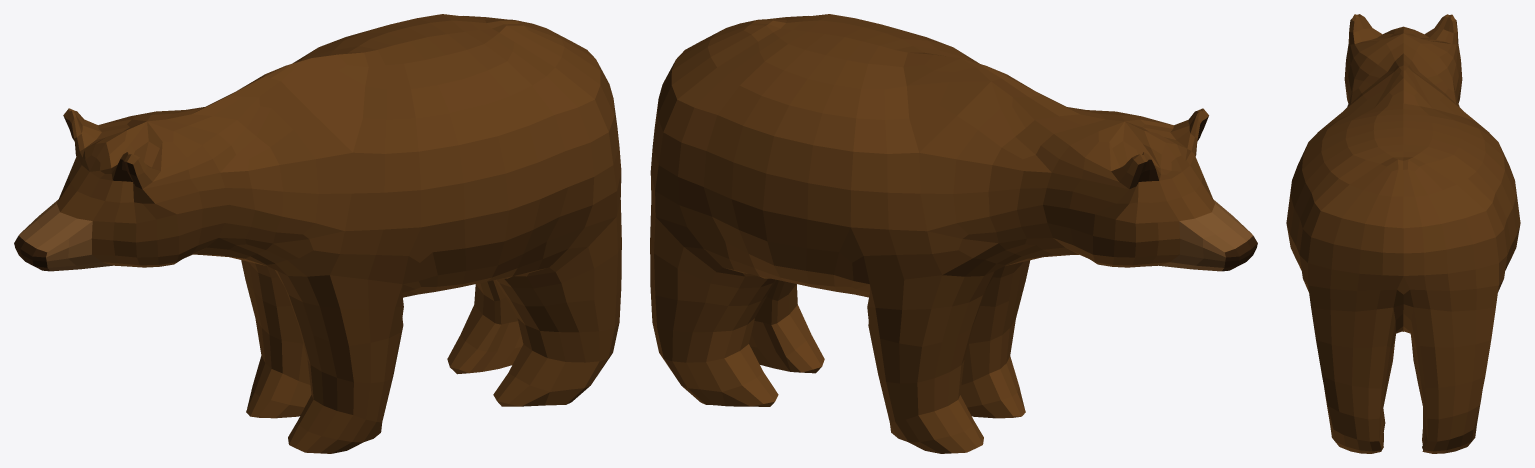
The model's file is Bear.FBX.
3 views of the same model, side by side, from view 1: azimuth 30°, elevation 25°; view 2: azimuth 150°, elevation 25°; view 3: azimuth 270°, elevation 25° (orthographic). The views are drawn at different scales.
Parts seen in each view (by area): view 1: Sphere001; view 2: Sphere001; view 3: Sphere001.
Part boxes in pixels (x1,y1,x2,y2): Sphere001: (14, 14, 621, 453); Sphere001: (650, 14, 1257, 453); Sphere001: (1286, 14, 1520, 453).
Size of the model in its own units: 5.25 by 3.22 by 2.35.
